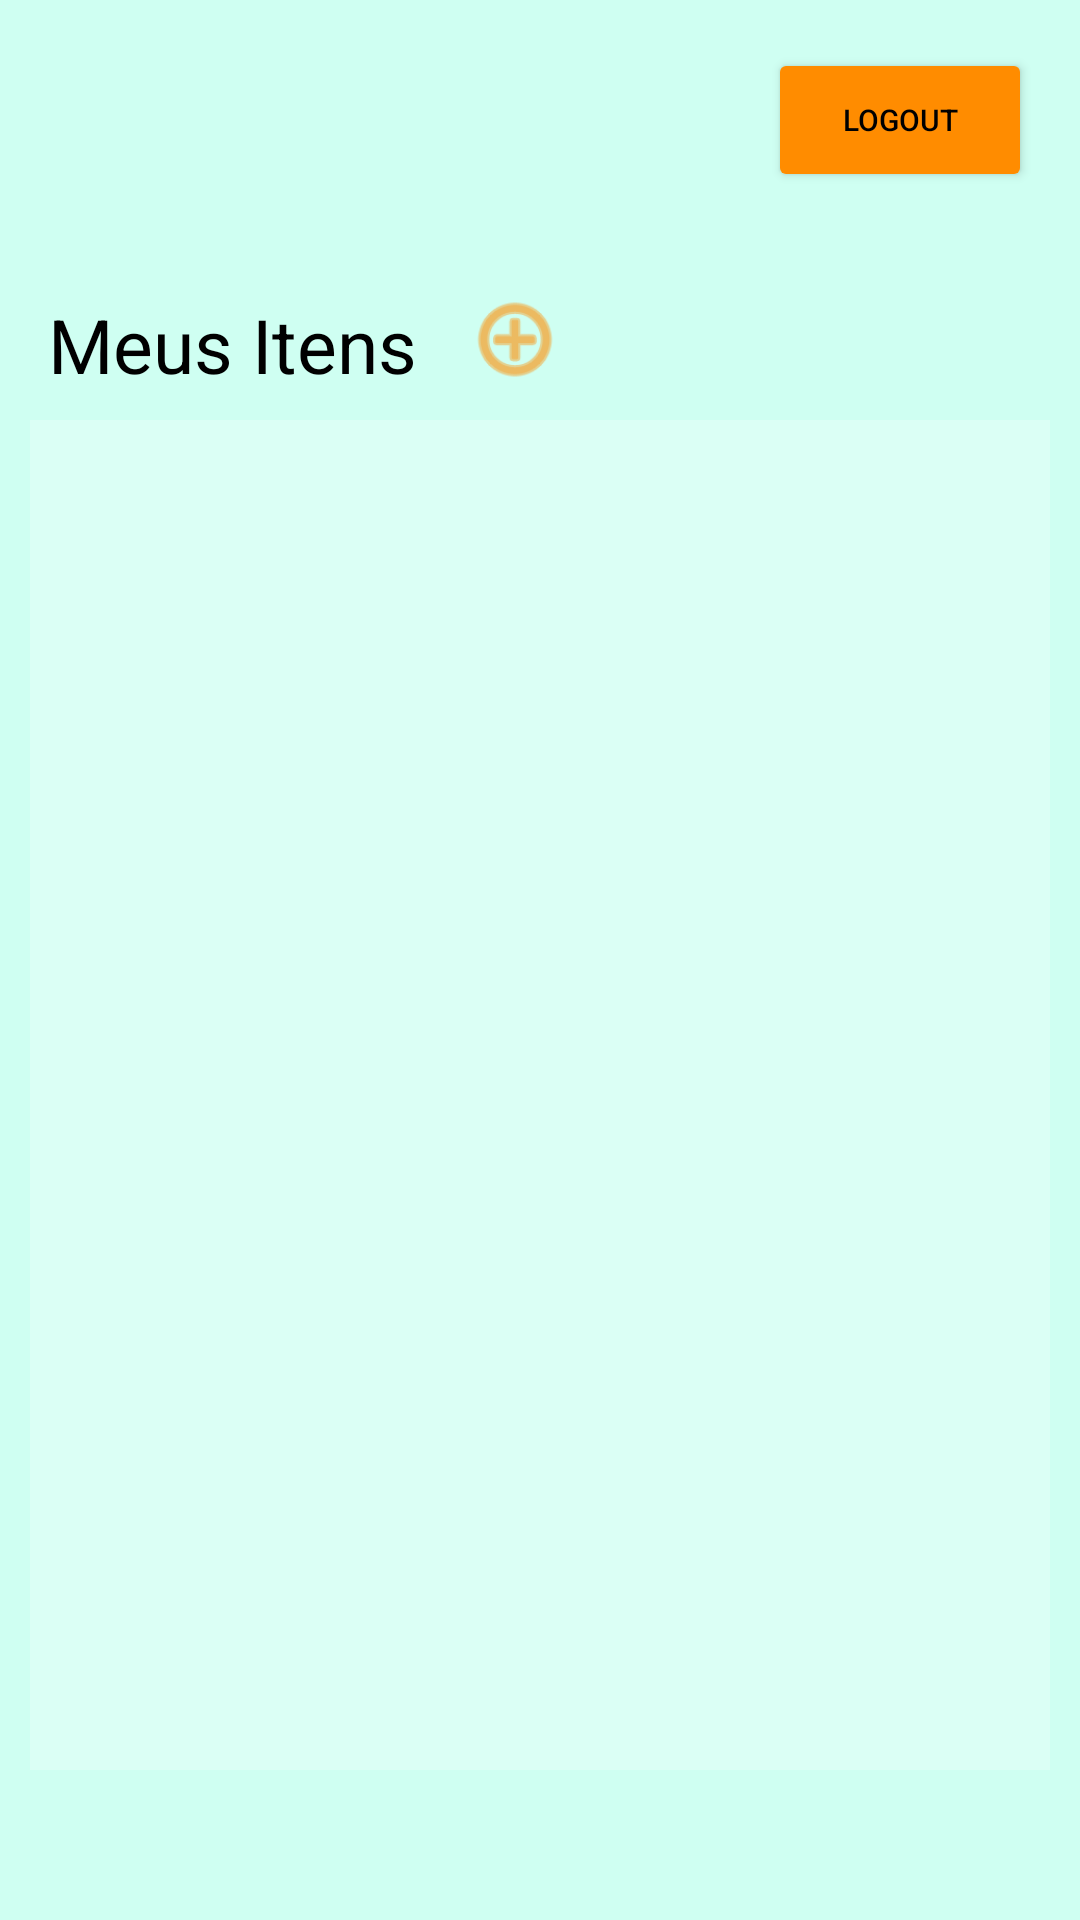

Where to tap for icons on this 1080*1920 app screen, as (x,y):
add: (515,339)
